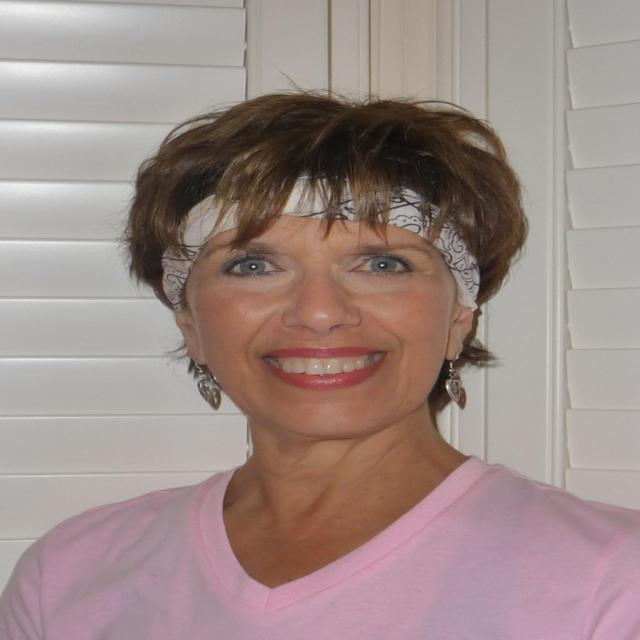Face: (156, 163, 469, 453)
